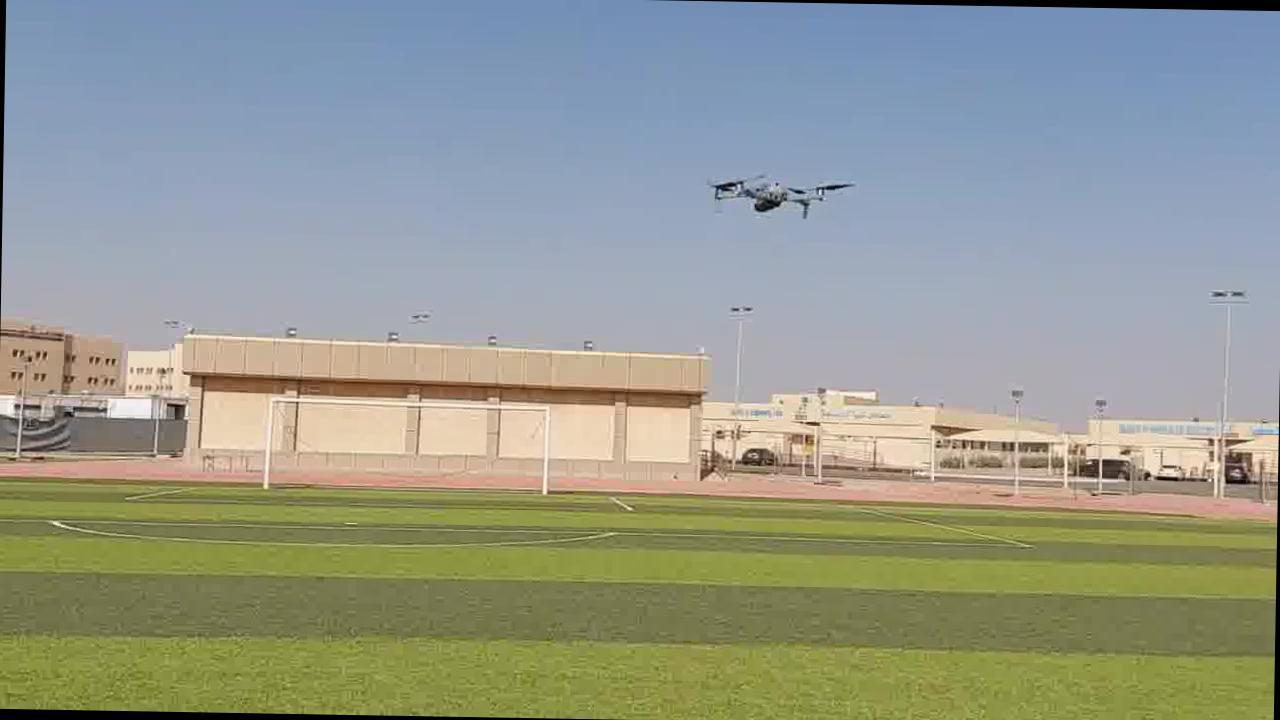drone: (707, 171, 857, 221)
